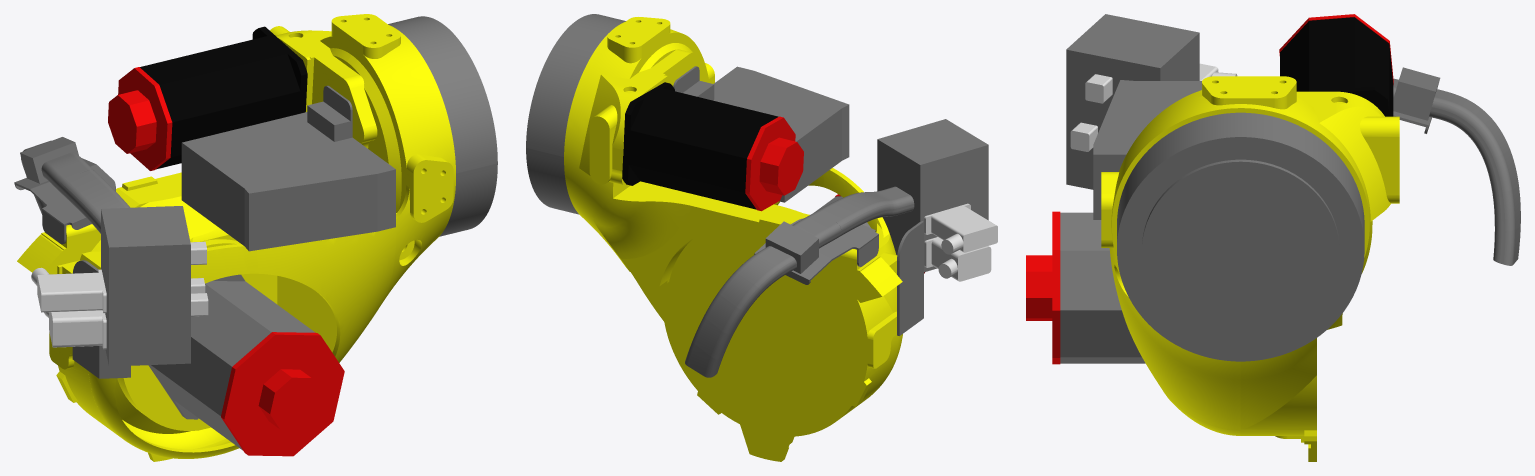
3 views of the same model, side by side, from view 1: azimuth 30°, elevation 25°; view 2: azimuth 150°, elevation 25°; view 3: azimuth 270°, elevation 25° (orthographic). The views are drawn at different scales.
Parts seen in each view (by area): view 1: Mesh_0; view 2: Mesh_0; view 3: Mesh_0.
Part boxes in pixels (x1,y1,x2,y2): Mesh_0: [14, 14, 497, 461]; Mesh_0: [526, 14, 997, 461]; Mesh_0: [1026, 14, 1520, 461].
Size of the model in its own units: 0.6752 by 0.5851 by 0.601.
